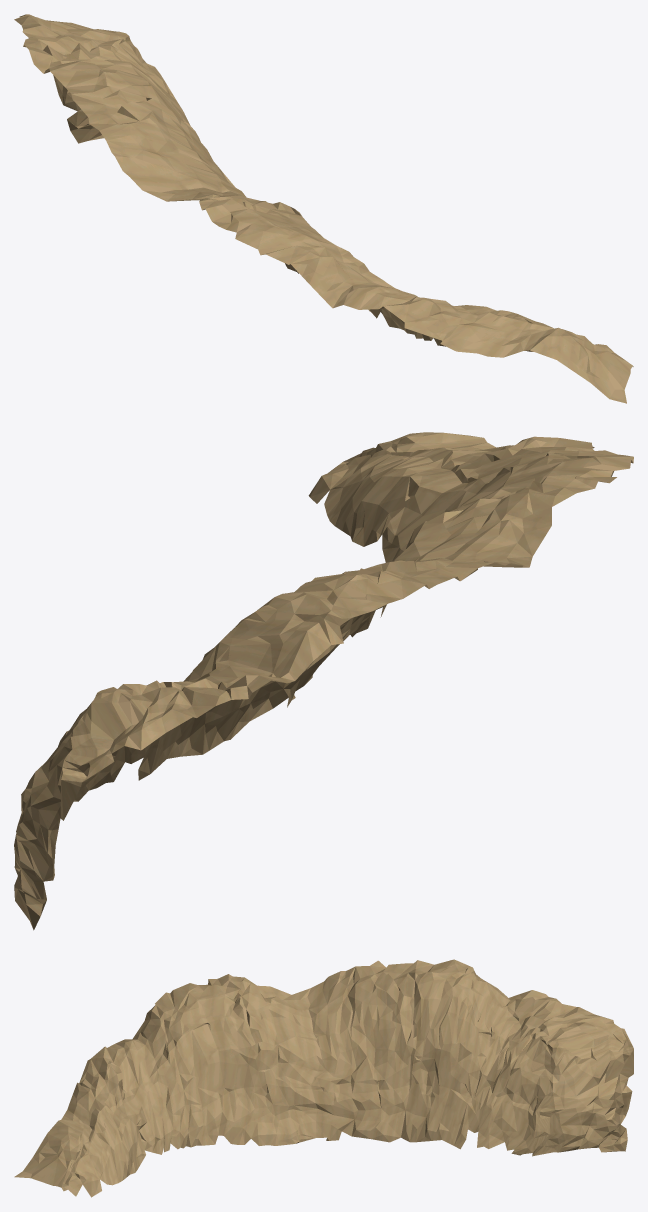
File: SM_ENV_TCHEXA_FaceRock_BG_A_03.fbx
The picture shows the model from 3 angles, top to bottom: view 1: azimuth 30°, elevation 25°; view 2: azimuth 150°, elevation 25°; view 3: azimuth 270°, elevation 25°; orthographic projection. The views are drawn at different scales.
Parts seen in each view (by area): view 1: SM_ENV_TCHEXA_FaceRock_BG_A_03.mo; view 2: SM_ENV_TCHEXA_FaceRock_BG_A_03.mo; view 3: SM_ENV_TCHEXA_FaceRock_BG_A_03.mo.
Part boxes in pixels (x1,y1,x2,y2): SM_ENV_TCHEXA_FaceRock_BG_A_03.mo: (14,14,633,403); SM_ENV_TCHEXA_FaceRock_BG_A_03.mo: (14,432,633,930); SM_ENV_TCHEXA_FaceRock_BG_A_03.mo: (14,959,633,1197).
Size of the model in its own units: 22786 by 12923 by 51415.
